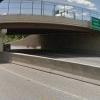Bridge: (3, 3, 100, 42)
